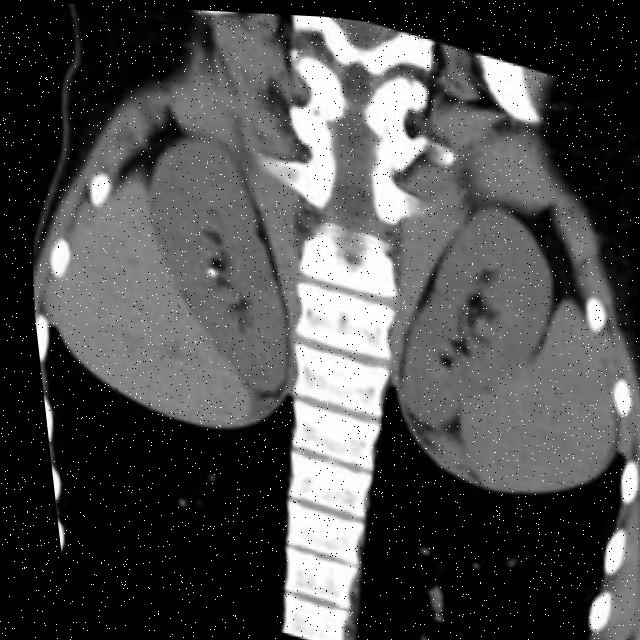Tas_Var: (196, 259, 221, 285)
